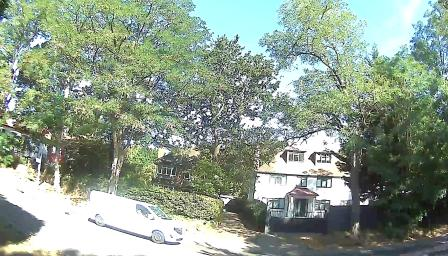Cars: (75, 165, 192, 249)
